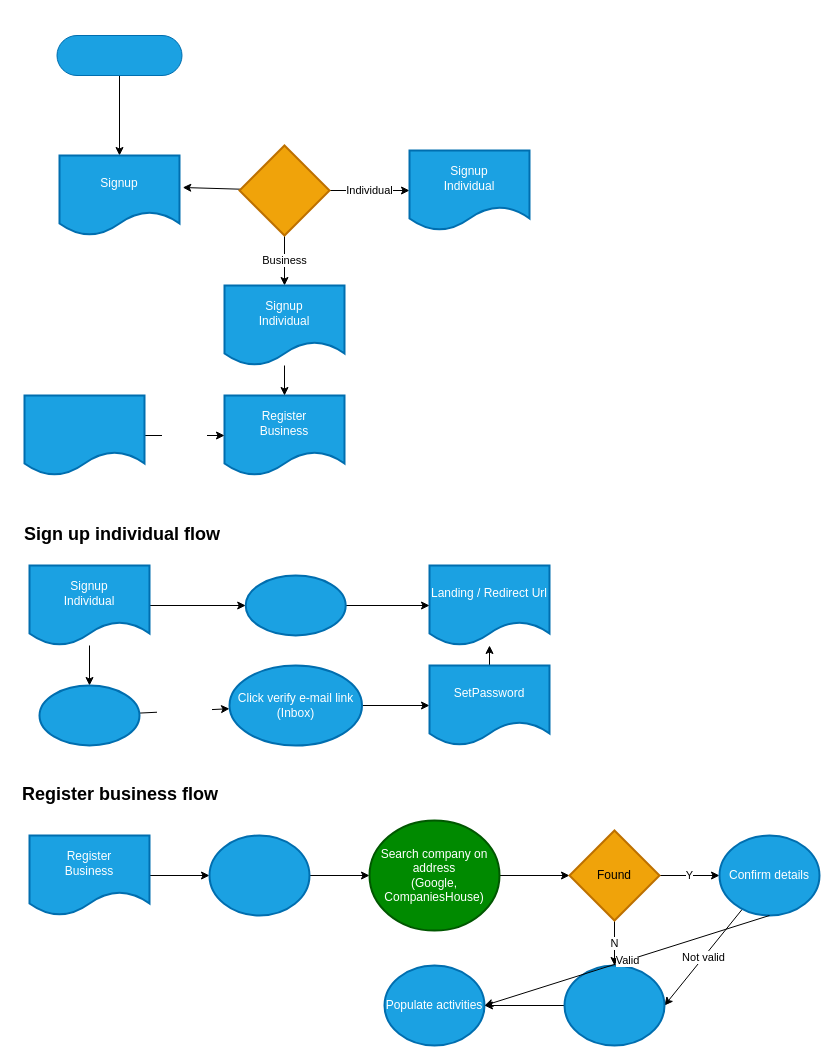
The diagram is 838 pixels wide and 1064 high, and some of its shapes have lost their labels. Here are the shapes that lost their labels. From the top down, the box of each, then its label:
(56, 34, 182, 76): Source actions
(238, 144, 330, 236): Individual or Business
(23, 394, 145, 476): Upgrade account
(244, 574, 346, 636): Continue with Google
(38, 684, 140, 746): Enter e-mail
(208, 834, 310, 916): Enter address
(563, 964, 665, 1046): Enter details
